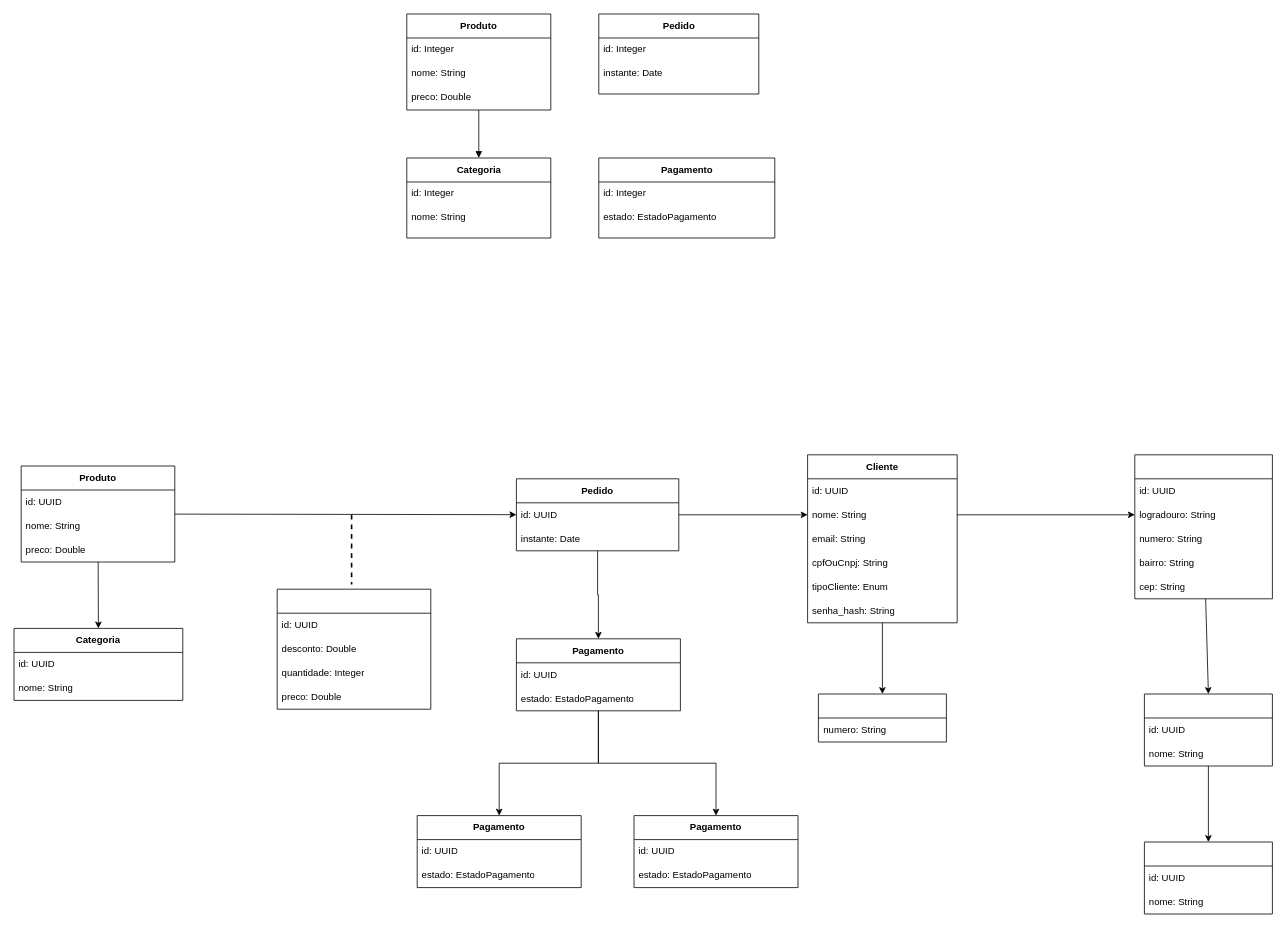
Some shapes in this 1286 by 928 pixel diagram are drawn without their labels. The box of each missing label's shape, as (x1, y1, x2, y2) in pixels:
Cidade: (1144, 693, 1272, 766)
Endereco: (1134, 454, 1272, 599)
Estado: (1144, 841, 1272, 914)
ItemPedido: (276, 588, 431, 709)
Telefone: (818, 693, 946, 742)
